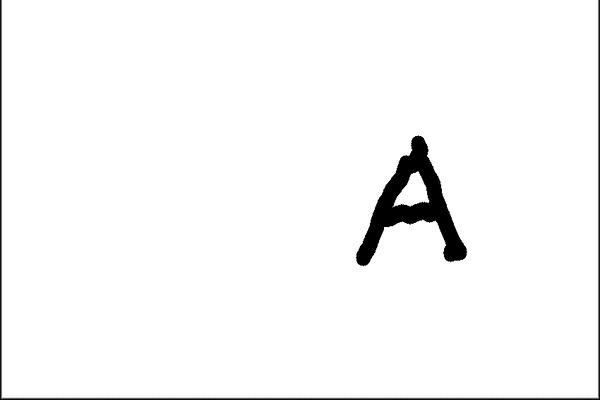A: (348, 126, 472, 271)
